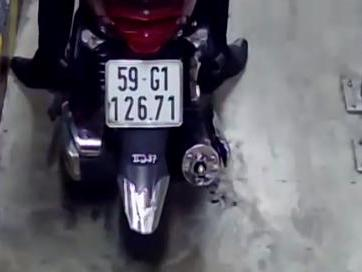num_plate: (105, 59, 183, 128)
